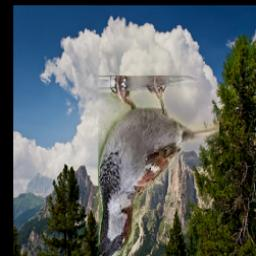Sparrow: (97, 76, 218, 256)
